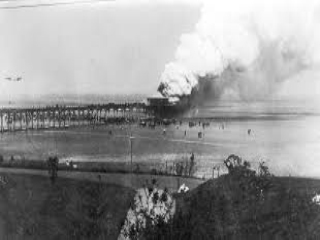smoke: (152, 8, 287, 103)
